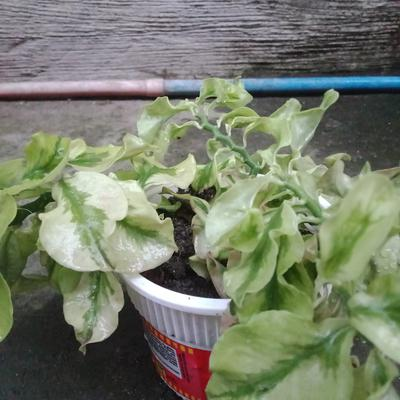Pothos plant: (134, 112, 400, 358)
